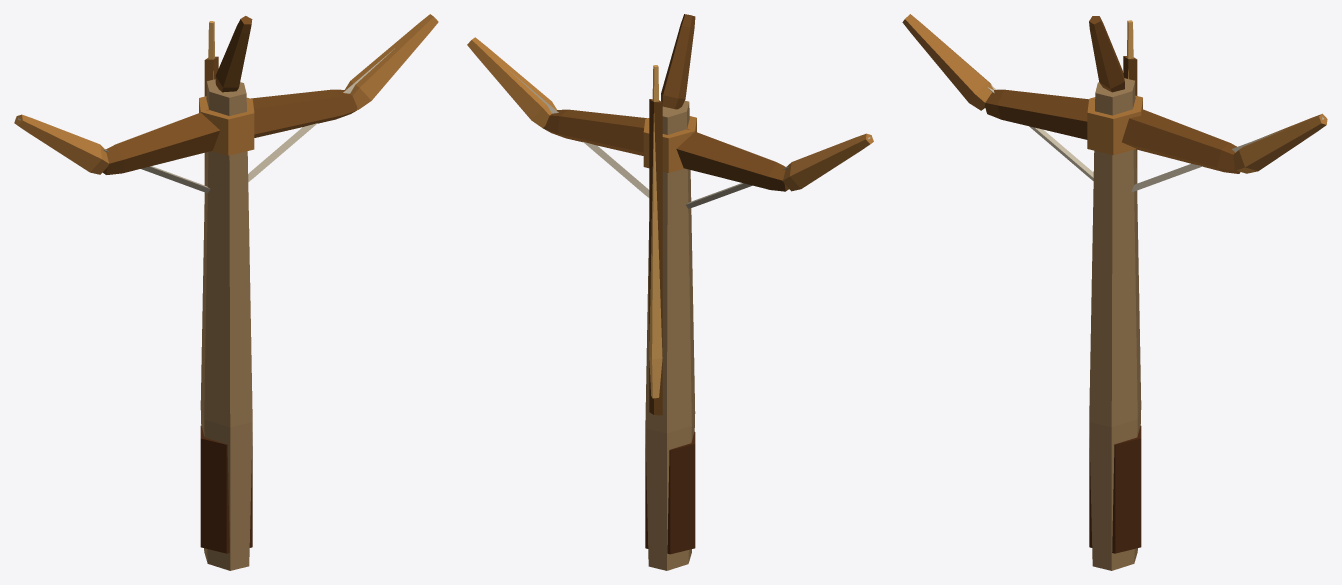
Rendered from wpn_crossbow_2.glb.
3 renders of one model, left to right at view 1: azimuth 30°, elevation 25°; view 2: azimuth 150°, elevation 25°; view 3: azimuth 330°, elevation 25°, orthographic. The views are drawn at different scales.
Visible parts, largest first — view 1: wpn_crossbow_2; view 2: wpn_crossbow_2; view 3: wpn_crossbow_2.
Boxes of the visible parts, left/top/right/bottom form: wpn_crossbow_2: left=14, top=14, right=438, bottom=570; wpn_crossbow_2: left=467, top=14, right=873, bottom=570; wpn_crossbow_2: left=902, top=14, right=1327, bottom=570.
Bounding box in the file's own units: 0.4868 × 0.6125 × 0.0836.
